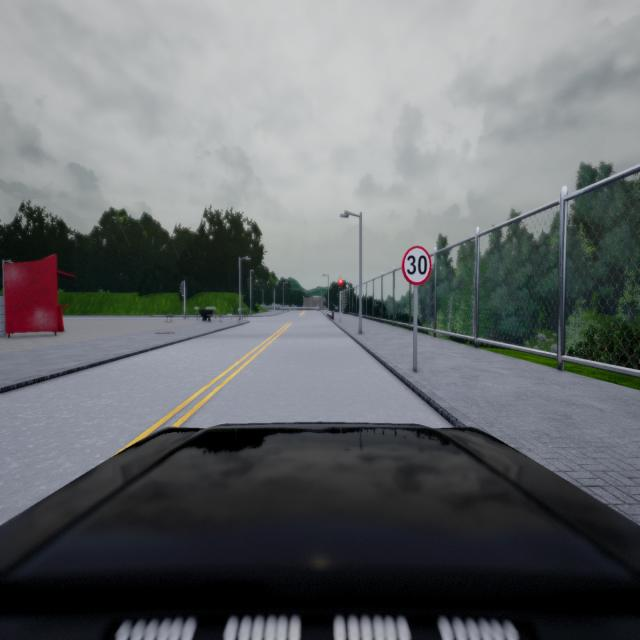Speed Limit -30-: (402, 245, 432, 285)
